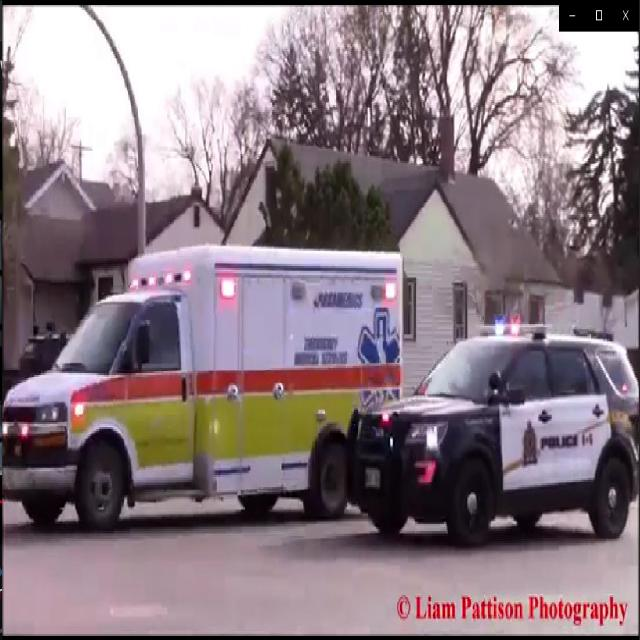emergency: (1, 242, 404, 528), (353, 312, 639, 536)
